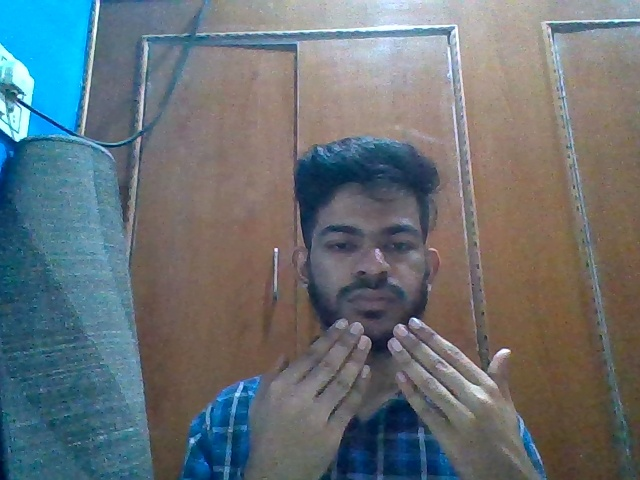thanks: (243, 316, 526, 480)
